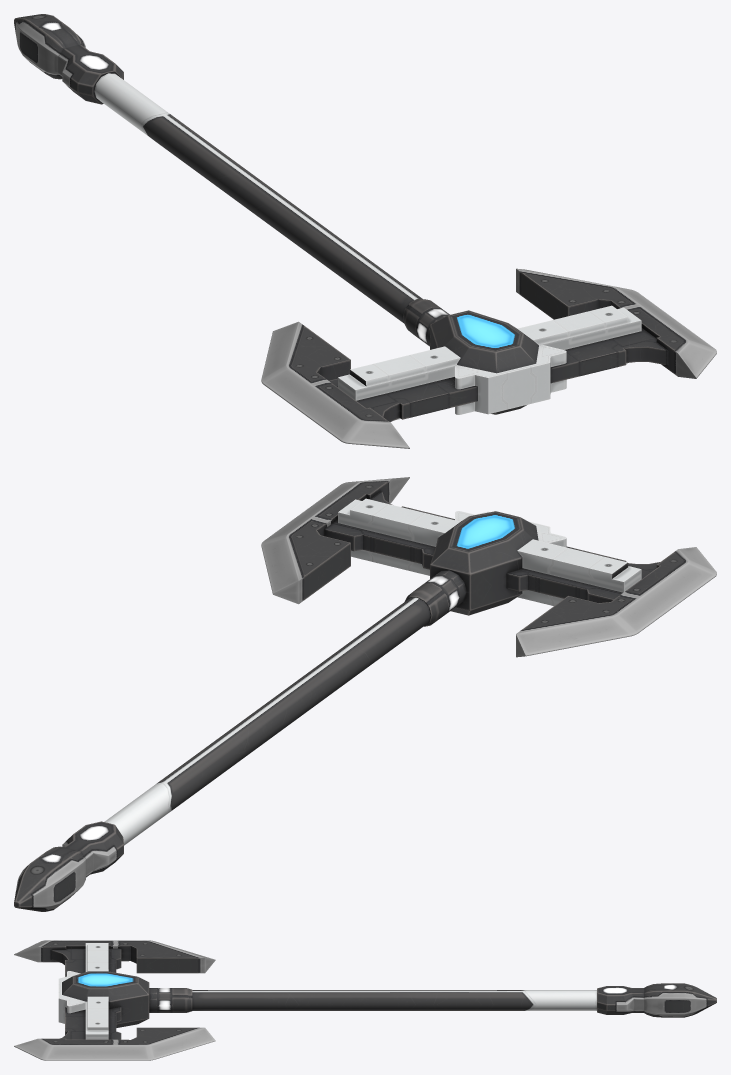
File: MeleePoleAxe02.FBX
3 renders of one model, top to bottom at view 1: azimuth 30°, elevation 25°; view 2: azimuth 150°, elevation 25°; view 3: azimuth 270°, elevation 25°, orthographic. The views are drawn at different scales.
Parts seen in each view (by area): view 1: MeleePoleAxe02; view 2: MeleePoleAxe02; view 3: MeleePoleAxe02.
Part boxes in pixels (left/top/right/bottom): MeleePoleAxe02: left=14, top=14, right=716, bottom=448; MeleePoleAxe02: left=14, top=477, right=716, bottom=911; MeleePoleAxe02: left=14, top=940, right=716, bottom=1060.
Size of what is drawn, in the model's own units: 0.6679 by 0.1067 by 1.66.
